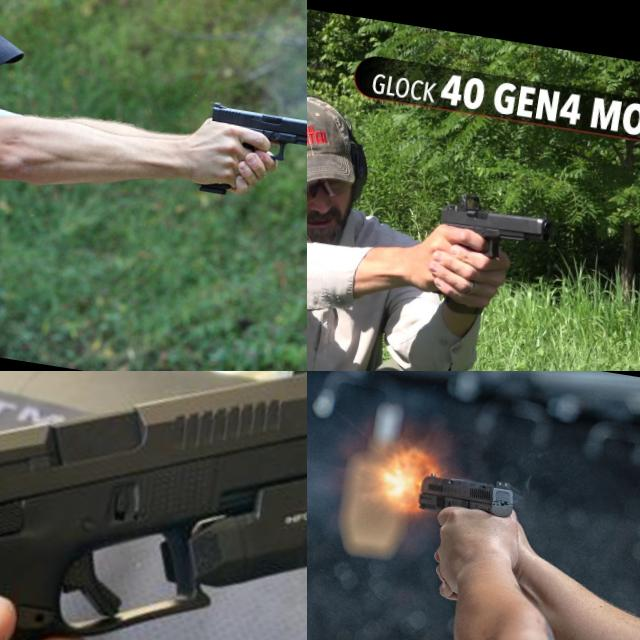handgun: (0, 371, 307, 640), (432, 188, 558, 268), (201, 98, 307, 172), (412, 466, 522, 527)
